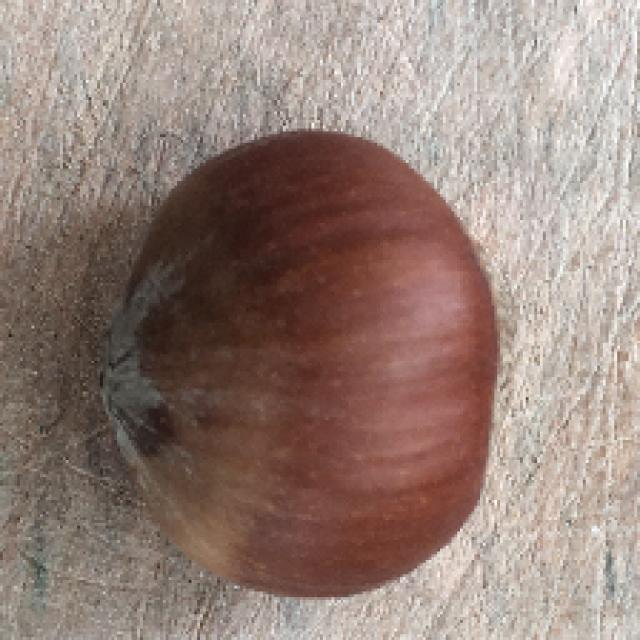DamagedHazelnut: (97, 134, 522, 600)
